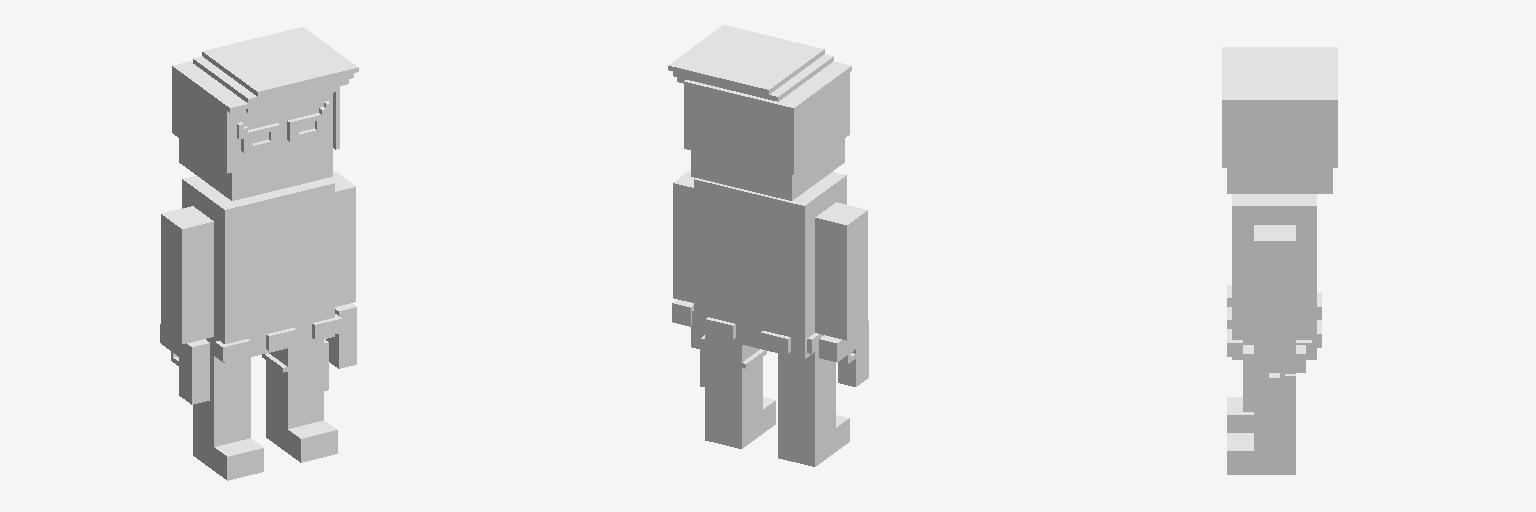
Rendered from RedHood2.obj.
3 views of the same model, side by side, from view 1: azimuth 30°, elevation 25°; view 2: azimuth 150°, elevation 25°; view 3: azimuth 270°, elevation 25° (orthographic).
Visible parts, largest first — view 1: object 1; view 2: object 1; view 3: object 1.
Part boxes in pixels (bbox=[...]): object 1: bbox=[160, 27, 358, 480]; object 1: bbox=[668, 25, 868, 466]; object 1: bbox=[1222, 47, 1337, 474].
Size of the model in its own units: 3.8 by 8 by 2.2.